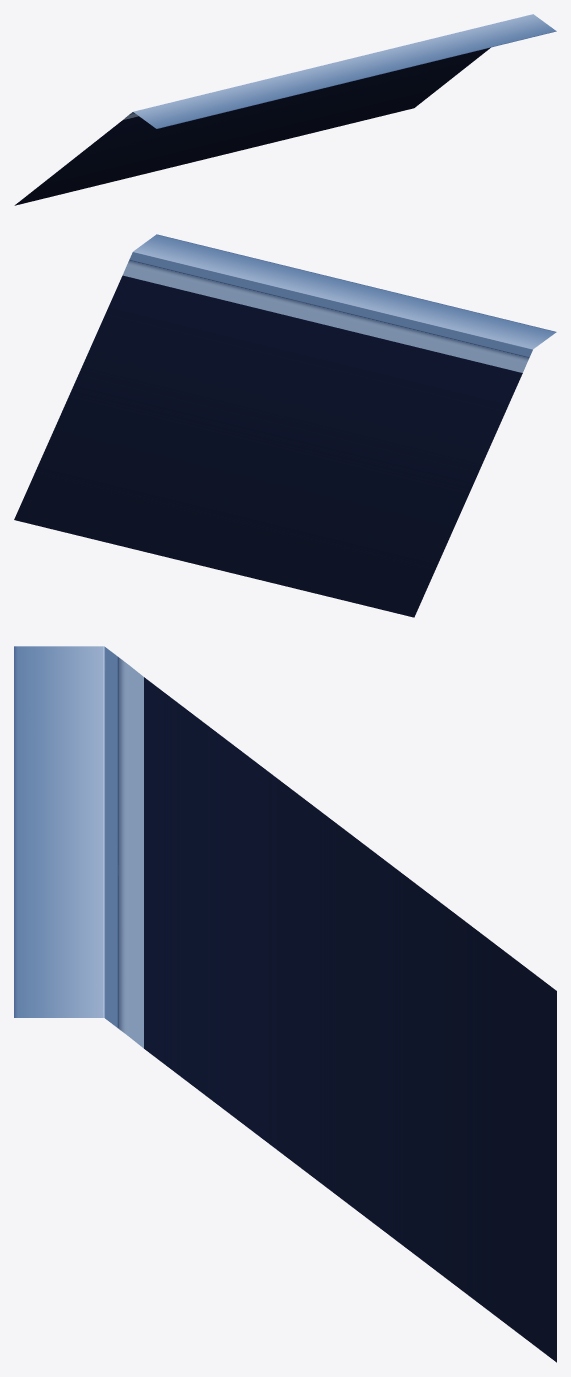
Rendered from BaseGround (1) 1.fbx.
3 renders of one model, top to bottom at view 1: azimuth 30°, elevation 25°; view 2: azimuth 150°, elevation 25°; view 3: azimuth 270°, elevation 25°, orthographic. The views are drawn at different scales.
Parts seen in each view (by area): view 1: BaseGround__1_; view 2: BaseGround__1_; view 3: BaseGround__1_.
Boxes of the visible parts, x1,y1,x2,y2 form: BaseGround__1_: (14,14,556,205); BaseGround__1_: (14,234,556,617); BaseGround__1_: (14,646,556,1362).
Size of the model in its own units: 2095 by 907 by 1294.
Materials: 1 (1 with a texture image).
